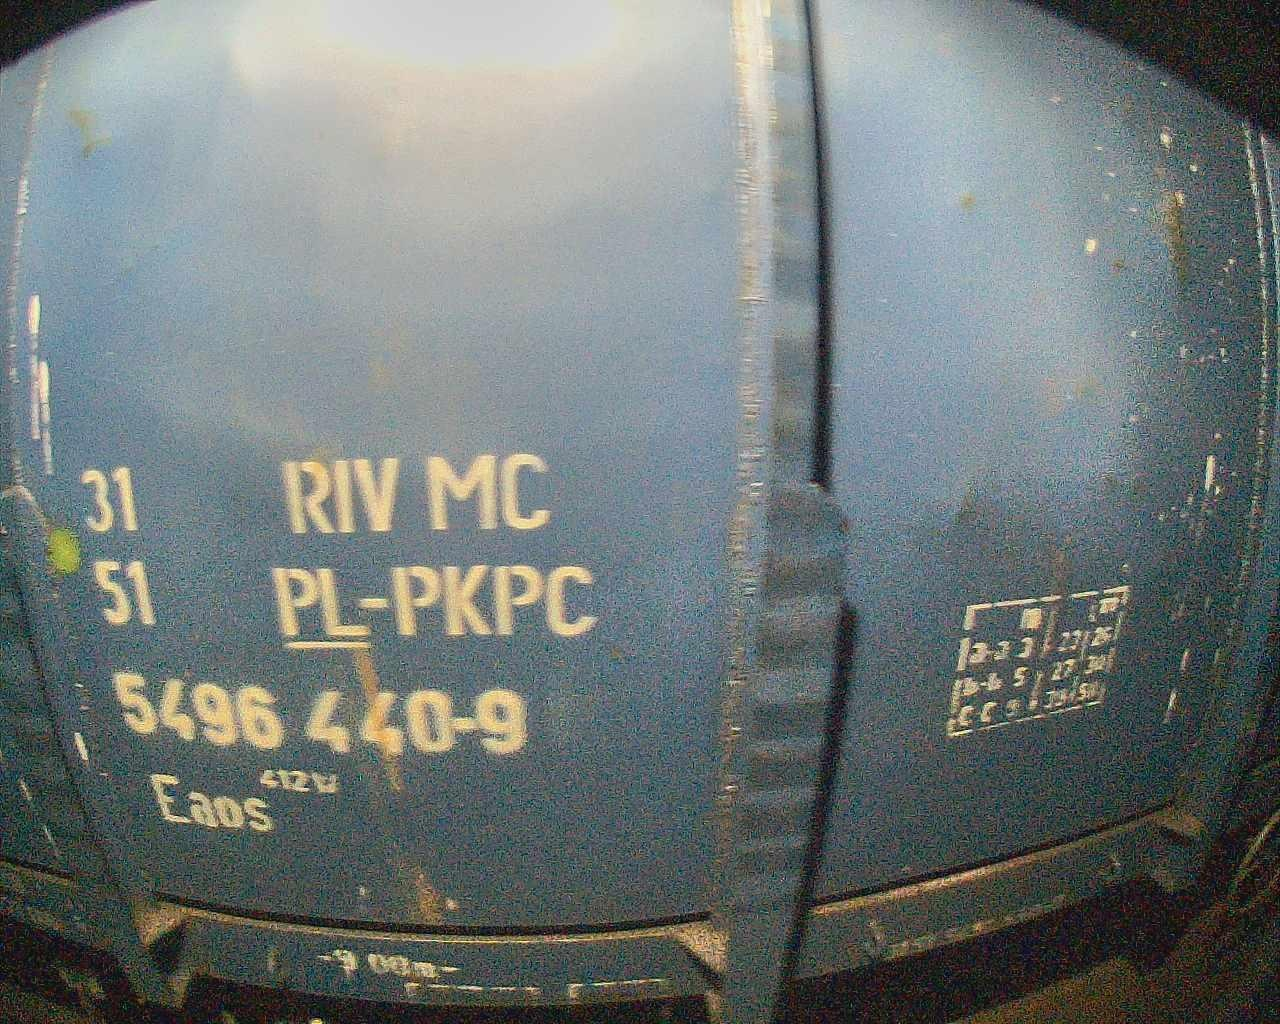UIC: (76, 452, 605, 834)
